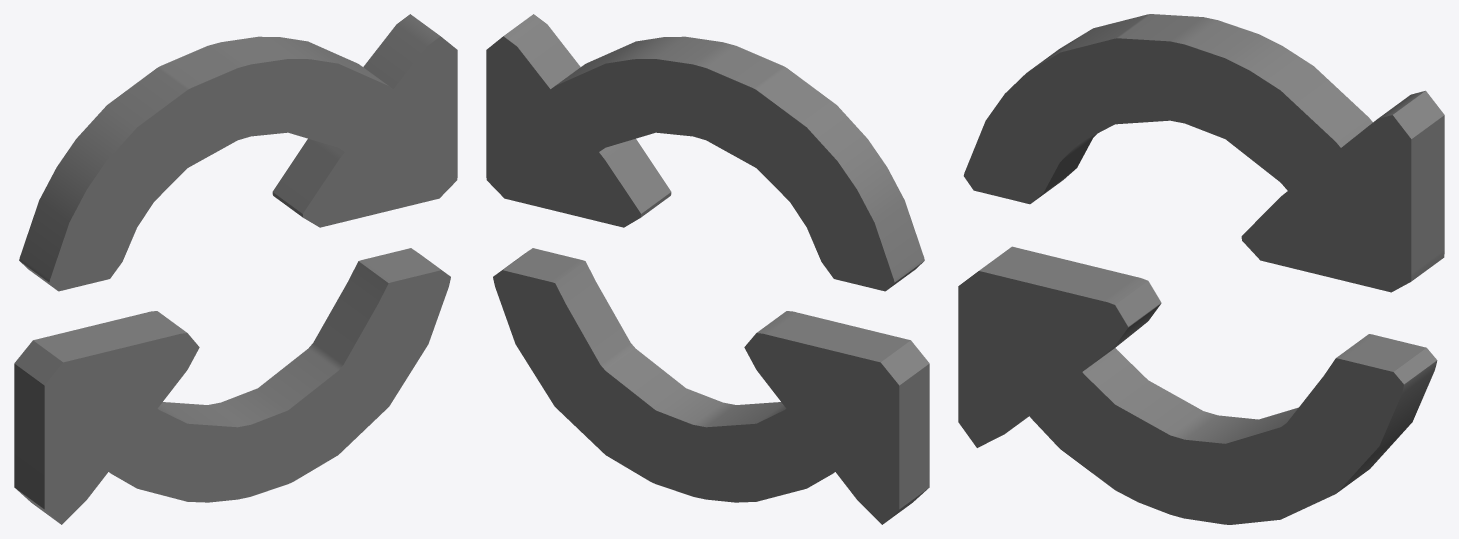
The model's file is fa-refresh.obj.
3 renders of one model, left to right at view 1: azimuth 30°, elevation 25°; view 2: azimuth 150°, elevation 25°; view 3: azimuth 330°, elevation 25°, orthographic. The views are drawn at different scales.
Bounding box in the file's own units: 0.9072 × 0.907 × 0.1152.
Materials: 1 (1 with a texture image).
